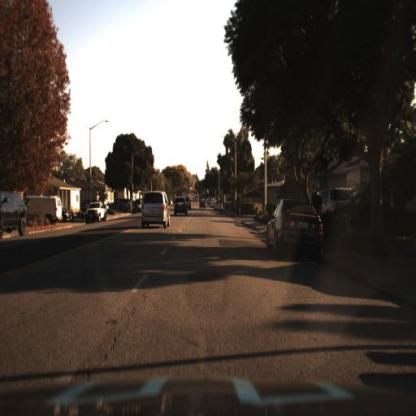car: (266, 191, 332, 268), (266, 198, 328, 256), (26, 190, 69, 231), (321, 181, 360, 225), (141, 187, 171, 233), (21, 195, 65, 224), (79, 197, 110, 233), (84, 202, 107, 224), (173, 194, 190, 221), (62, 205, 76, 228), (212, 199, 224, 216), (199, 200, 208, 209)
pedestrian: (313, 186, 323, 226)
